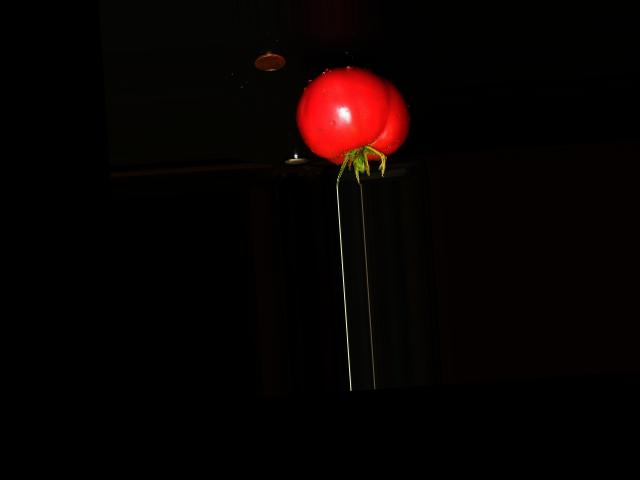tomato: (293, 61, 414, 167)
